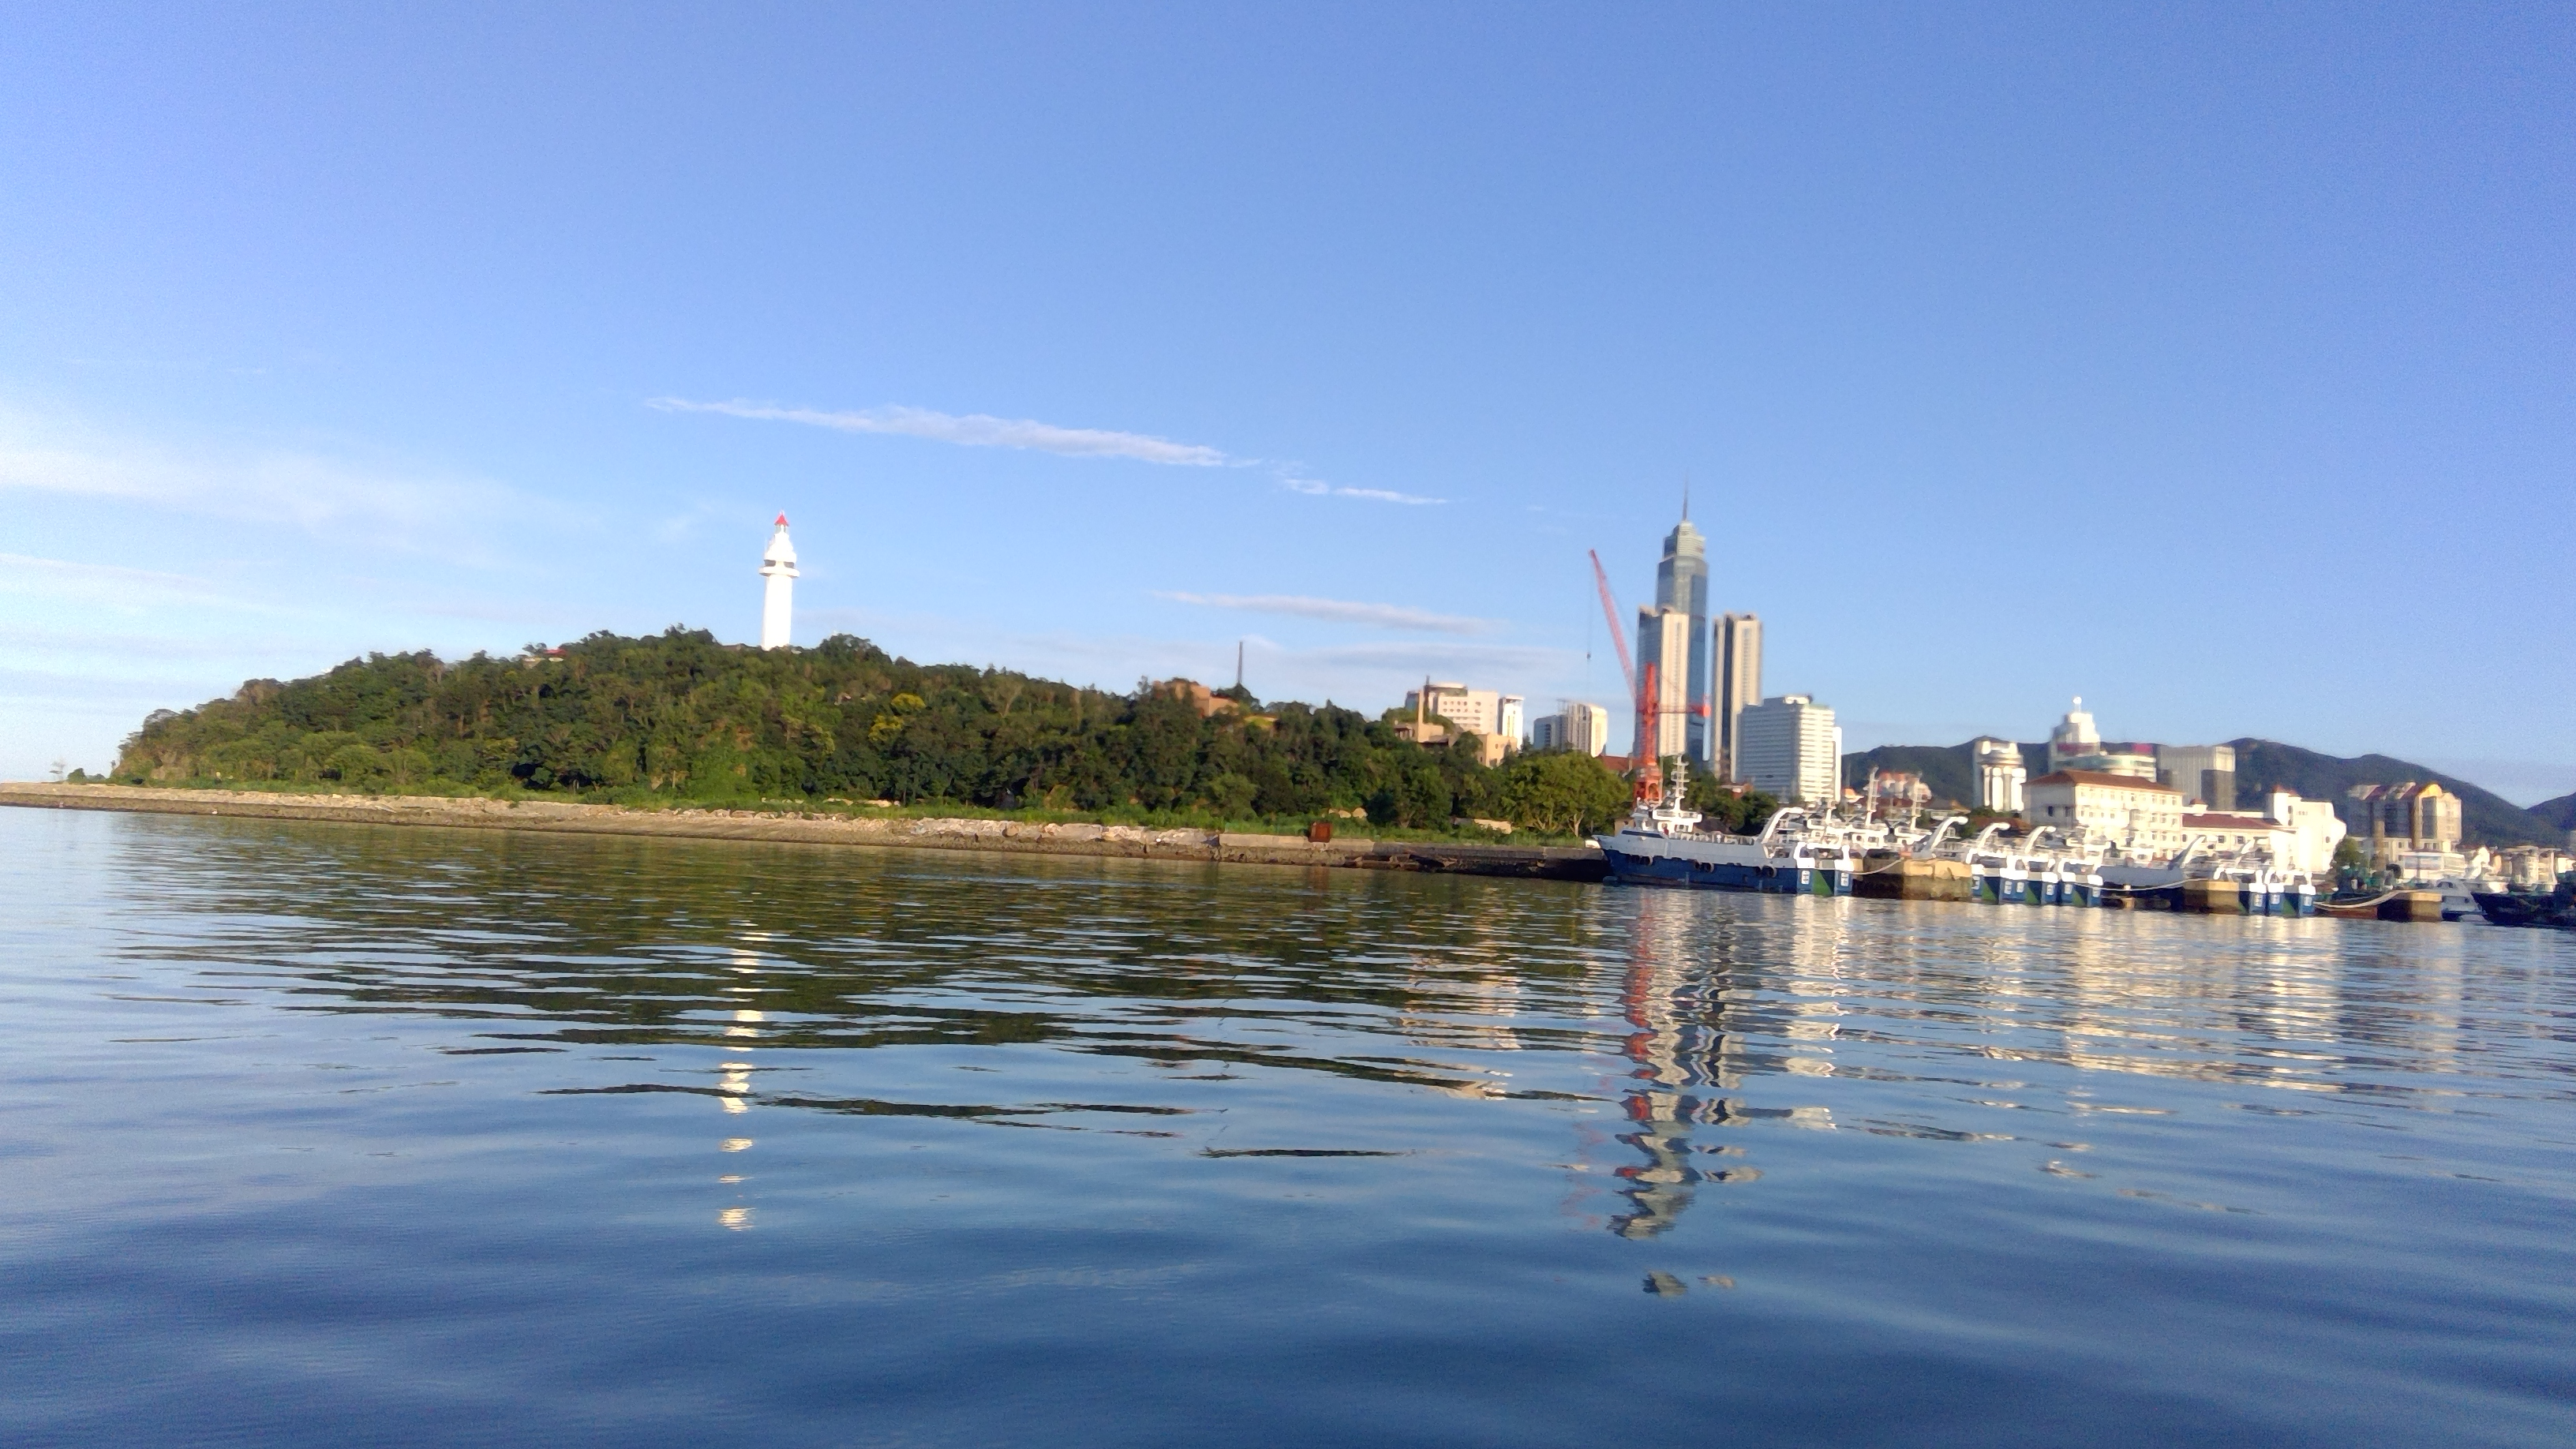ship: (1591, 777, 1840, 906), (1983, 821, 2158, 908), (1861, 793, 1987, 908), (2220, 840, 2282, 920)
